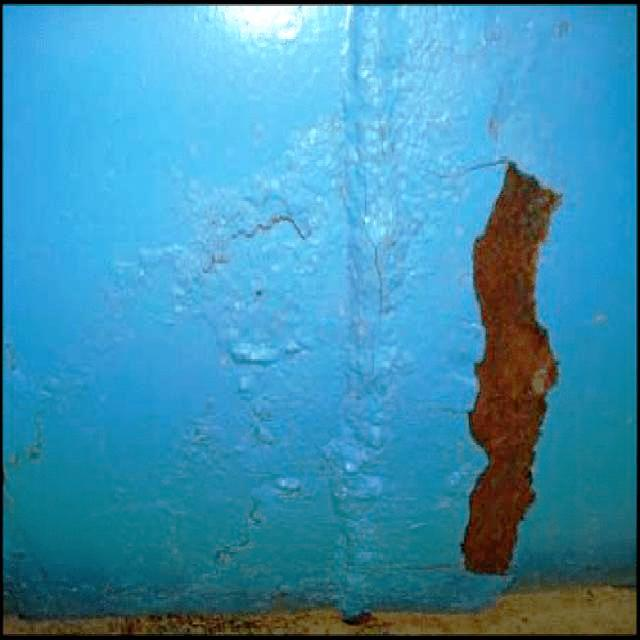Corrosion: (463, 163, 562, 575)
